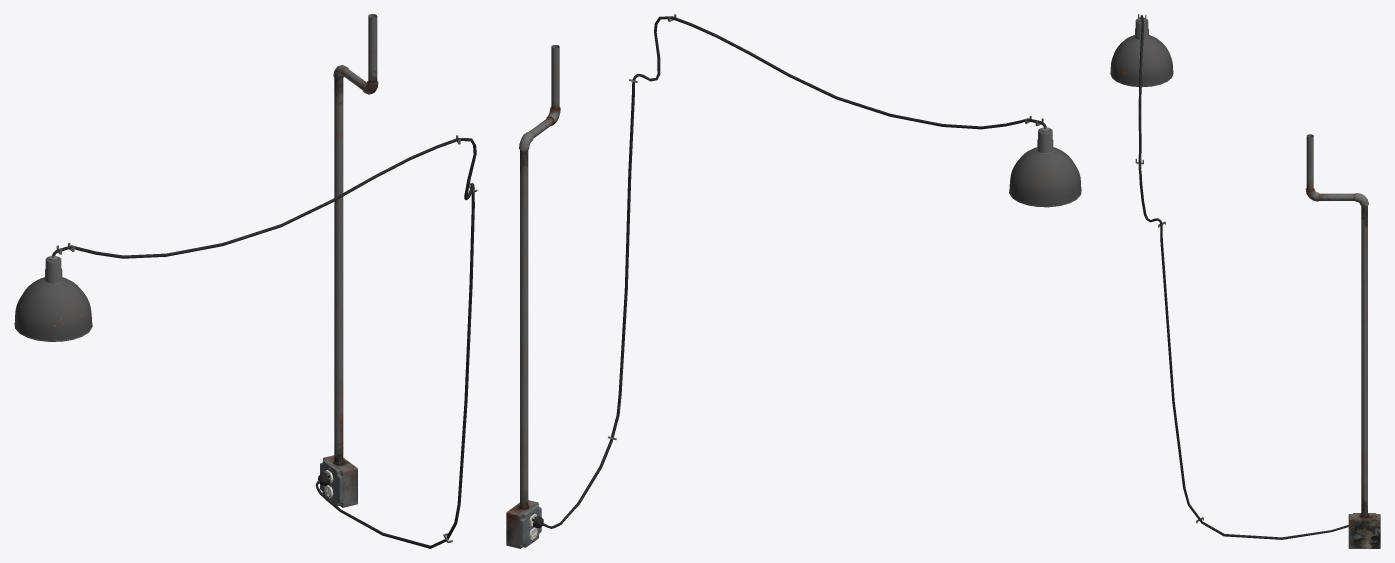
Rendered from SM_Room_Lamp.fbx.
The picture shows the model from 3 angles, left to right: view 1: azimuth 30°, elevation 25°; view 2: azimuth 150°, elevation 25°; view 3: azimuth 270°, elevation 25°; orthographic projection. The views are drawn at different scales.
Visible parts, largest first — view 1: SM_Room_Lamp; view 2: SM_Room_Lamp; view 3: SM_Room_Lamp.
Part boxes in pixels (x1=…): SM_Room_Lamp: x1=14, y1=14, x2=477, y2=548; SM_Room_Lamp: x1=506, y1=14, x2=1081, y2=548; SM_Room_Lamp: x1=1110, y1=14, x2=1380, y2=548.
Bounding box in the file's own units: 186 × 115 × 193.
